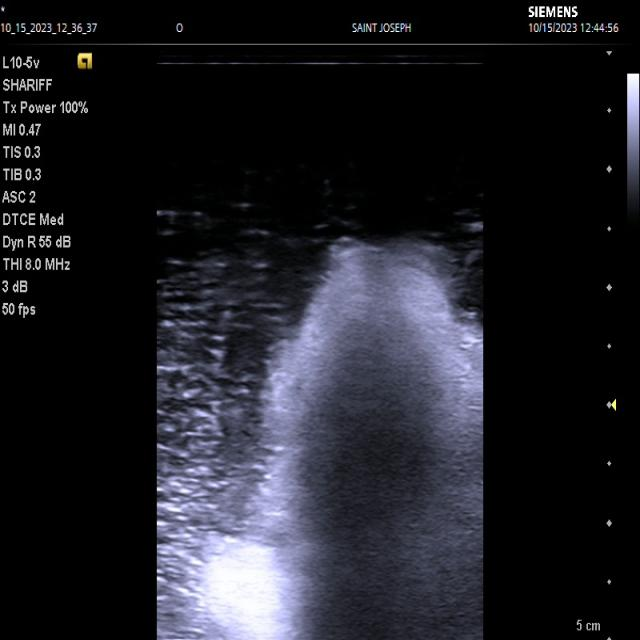tissue: (197, 236, 484, 640)
